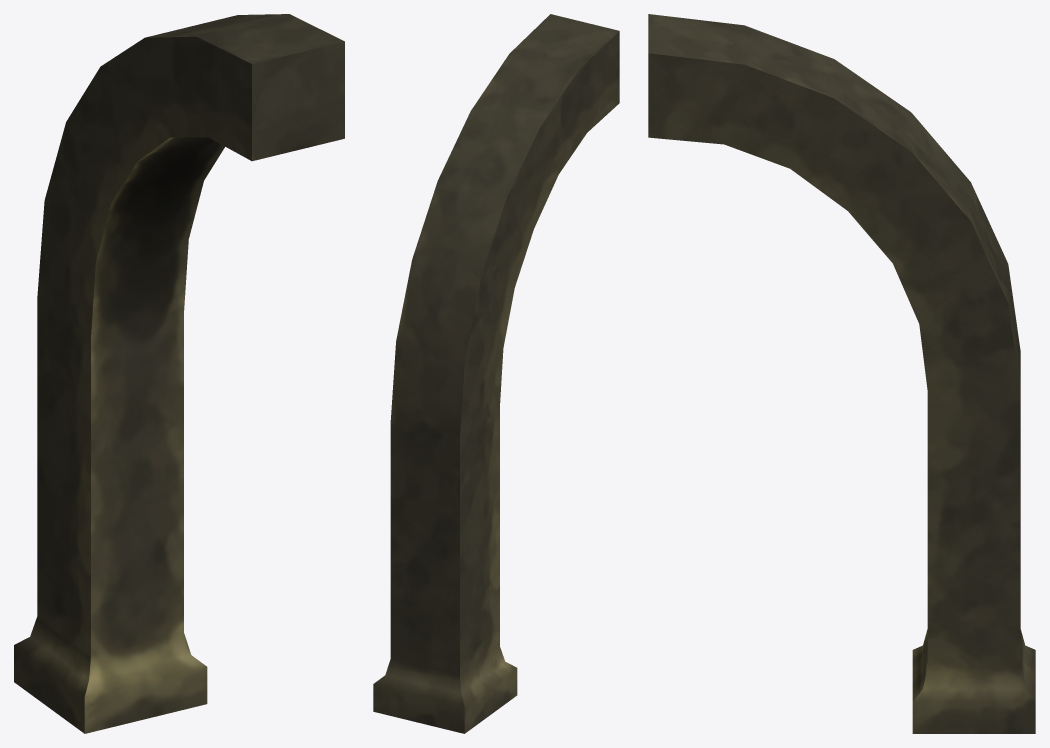
The model's file is Column.fbx.
The picture shows the model from 3 angles, left to right: view 1: azimuth 30°, elevation 25°; view 2: azimuth 150°, elevation 25°; view 3: azimuth 270°, elevation 25°; orthographic projection. The views are drawn at different scales.
Parts seen in each view (by area): view 1: pCube1; view 2: pCube1; view 3: pCube1.
Part boxes in pixels (left/top/right/bottom): pCube1: left=14, top=14, right=344, bottom=733; pCube1: left=373, top=14, right=619, bottom=733; pCube1: left=648, top=14, right=1035, bottom=733.
Bounding box in the file's own units: 0.6598 × 4 × 2.08.
